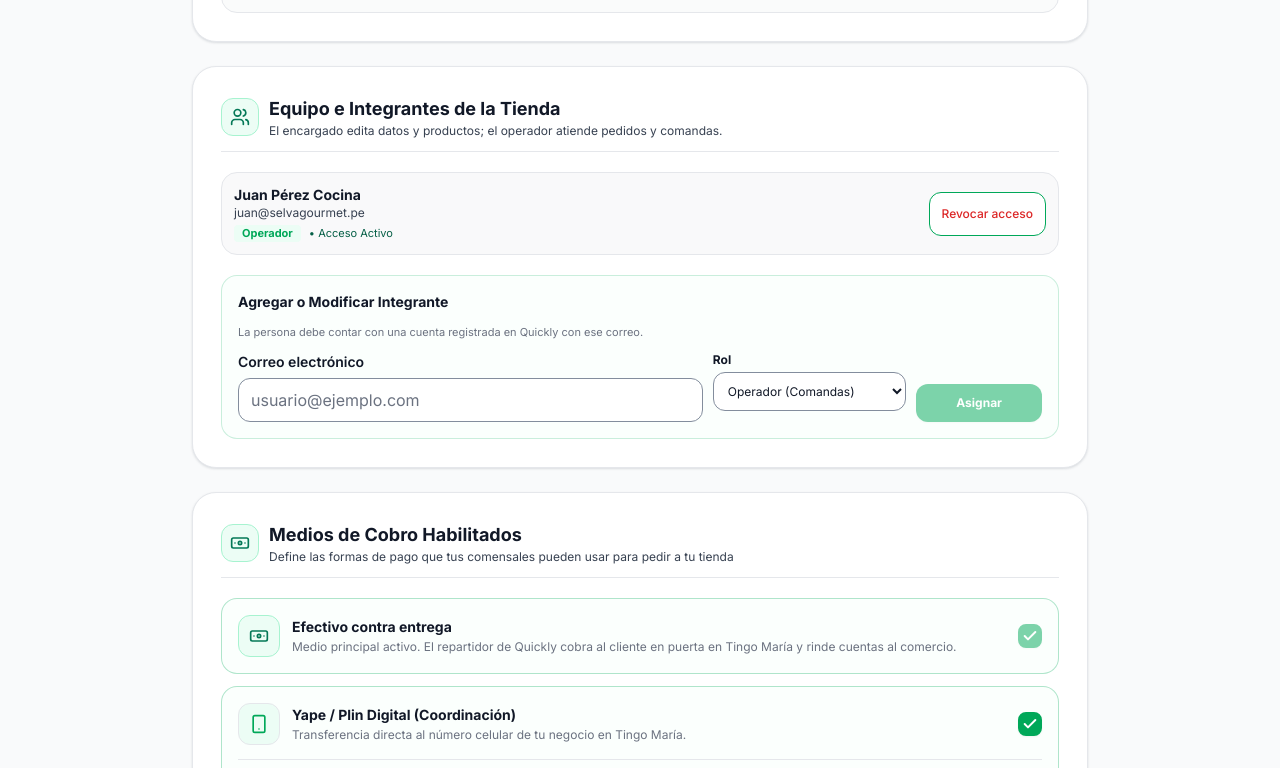
it: Bloque 4: Configuración, Horarios e Integrantes (MerchantSettingsPage) › conecta integrantes de la tienda y permite asignar un nuevo operador
(page scrolled)
expect the text "Juan Pérez Cocina" is shown: met, box [234,186,361,203]
expect the text "juan@selvagourmet.pe" is shown: met, box [234,205,365,220]
Type "nuevo.operador@selva.pe" into the field labelled "Correo electrónico" at (470, 400), box [238,378,703,422]
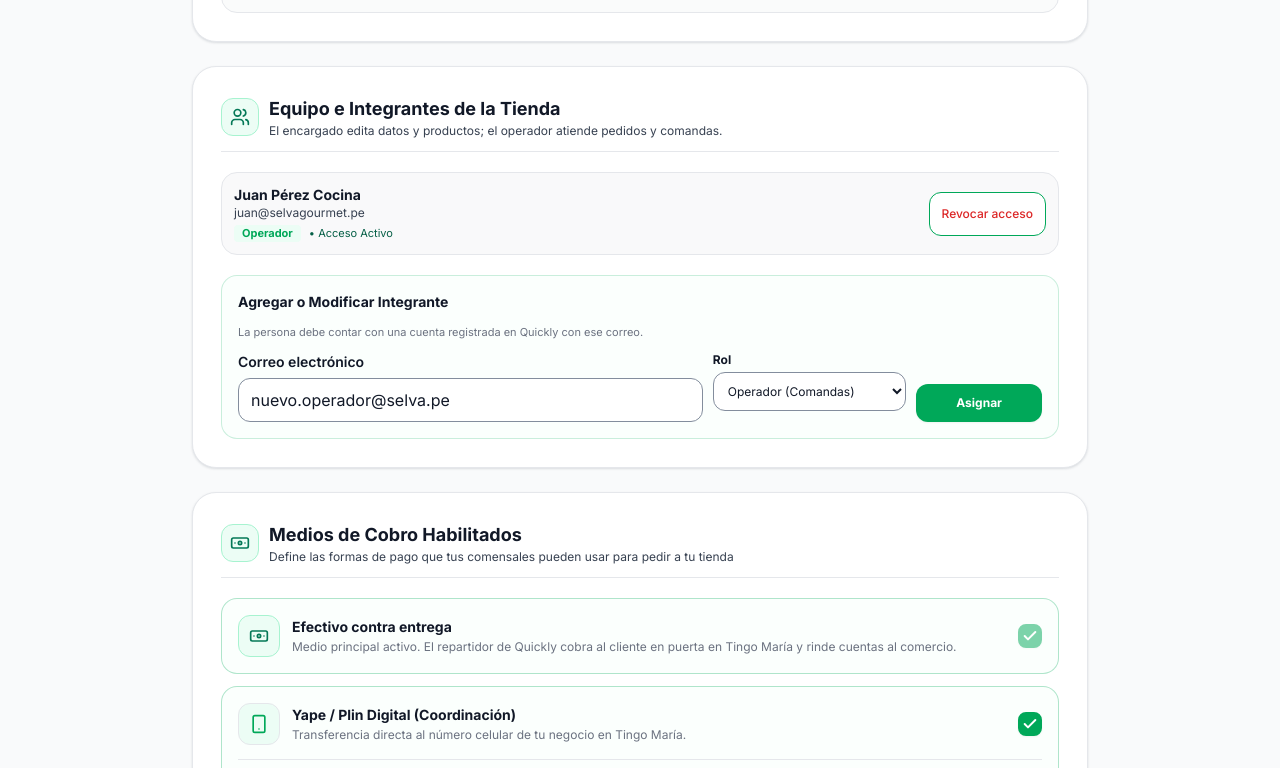
Click the button "Asignar" at (979, 403), box [916,384,1042,422]
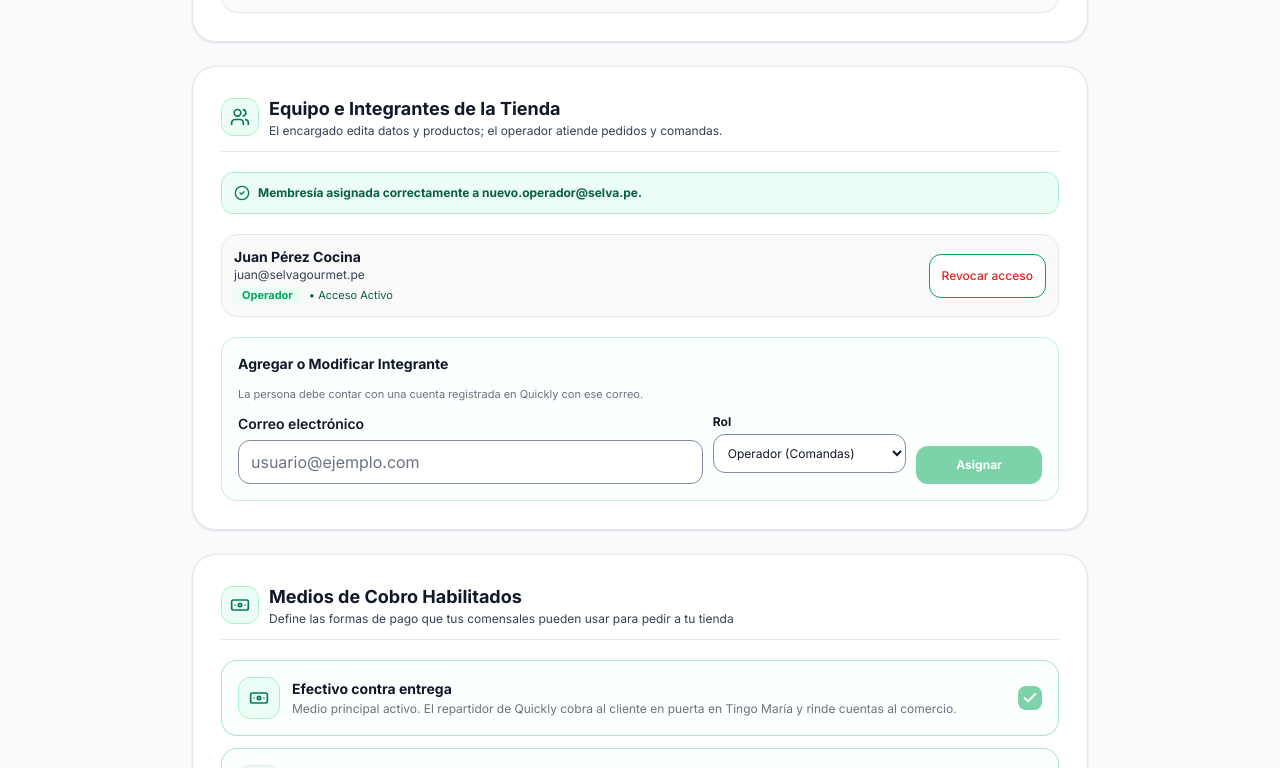
expect the text "Membresía asignada correctamente a nuevo.operador@selva.pe." is shown: met, box [258,185,642,201]
